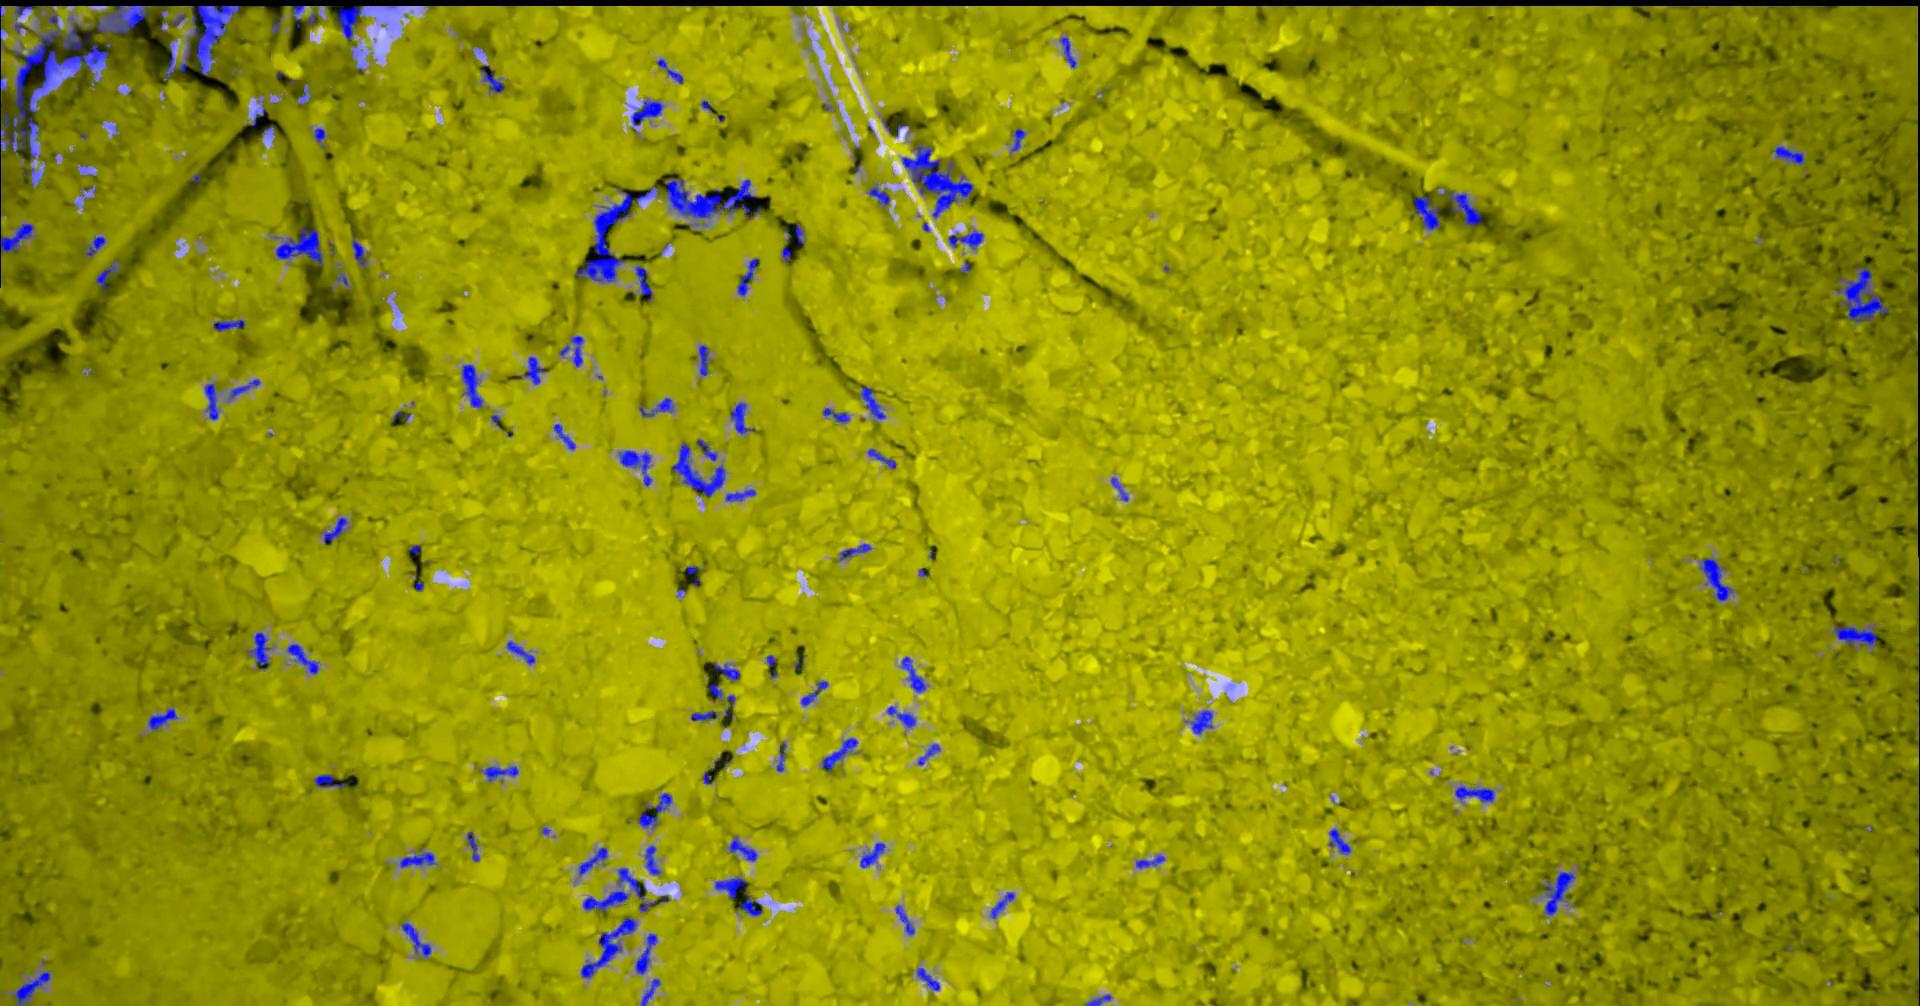ant: (580, 916, 636, 978), (672, 443, 724, 495), (616, 868, 662, 911), (276, 227, 323, 265), (714, 876, 761, 915), (95, 4, 149, 36), (1699, 558, 1733, 601), (1439, 191, 1481, 225), (1543, 871, 1575, 915), (11, 970, 50, 1005), (618, 450, 651, 486), (822, 737, 857, 770), (637, 793, 670, 827), (1832, 622, 1877, 647), (400, 922, 430, 956), (631, 98, 662, 131), (0, 224, 33, 254), (286, 643, 317, 673), (1413, 196, 1443, 229), (582, 890, 627, 911), (461, 365, 483, 406), (900, 655, 924, 692), (635, 934, 657, 974), (337, 5, 362, 39), (860, 385, 885, 419), (577, 847, 607, 875), (737, 258, 759, 295), (248, 633, 270, 669), (730, 401, 753, 434), (559, 335, 583, 366), (729, 836, 757, 861), (505, 640, 535, 664), (800, 680, 827, 705), (858, 842, 885, 868), (521, 356, 545, 384), (95, 260, 118, 290), (639, 398, 673, 417), (1454, 785, 1493, 801), (479, 65, 503, 91), (149, 708, 177, 730), (949, 230, 982, 249), (657, 58, 682, 83), (323, 517, 347, 542), (990, 892, 1015, 917), (399, 851, 436, 868), (886, 706, 916, 727), (635, 265, 651, 301), (838, 542, 871, 560), (229, 379, 259, 398), (552, 423, 575, 448), (1773, 146, 1804, 164), (895, 904, 914, 934), (1328, 828, 1350, 854), (640, 978, 660, 1005), (14, 5, 33, 33), (867, 448, 895, 467), (1059, 36, 1076, 67), (1189, 710, 1211, 733), (916, 967, 938, 989), (350, 232, 366, 265), (204, 384, 218, 419), (644, 845, 660, 874), (483, 766, 517, 780), (917, 743, 938, 765), (83, 236, 105, 257), (312, 774, 345, 788), (712, 663, 739, 680), (697, 439, 717, 461), (822, 406, 850, 422), (1110, 478, 1128, 500), (212, 319, 244, 332), (869, 185, 889, 205), (725, 488, 756, 500), (466, 831, 479, 861), (1135, 855, 1164, 868), (1010, 128, 1025, 151), (781, 227, 790, 263), (698, 344, 709, 375), (683, 567, 698, 586), (292, 4, 303, 28), (691, 710, 717, 720), (776, 742, 785, 771), (1084, 995, 1110, 1005), (709, 681, 723, 699), (314, 127, 325, 149), (794, 224, 803, 246)
